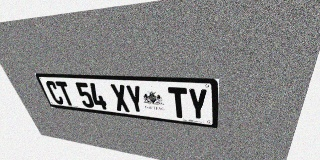4: (87, 83, 108, 110)
5: (75, 82, 96, 108)
C: (44, 81, 65, 105)
T: (168, 87, 188, 119), (55, 81, 76, 106)
X: (110, 84, 131, 112)
Y: (187, 88, 208, 121), (124, 85, 146, 114)
